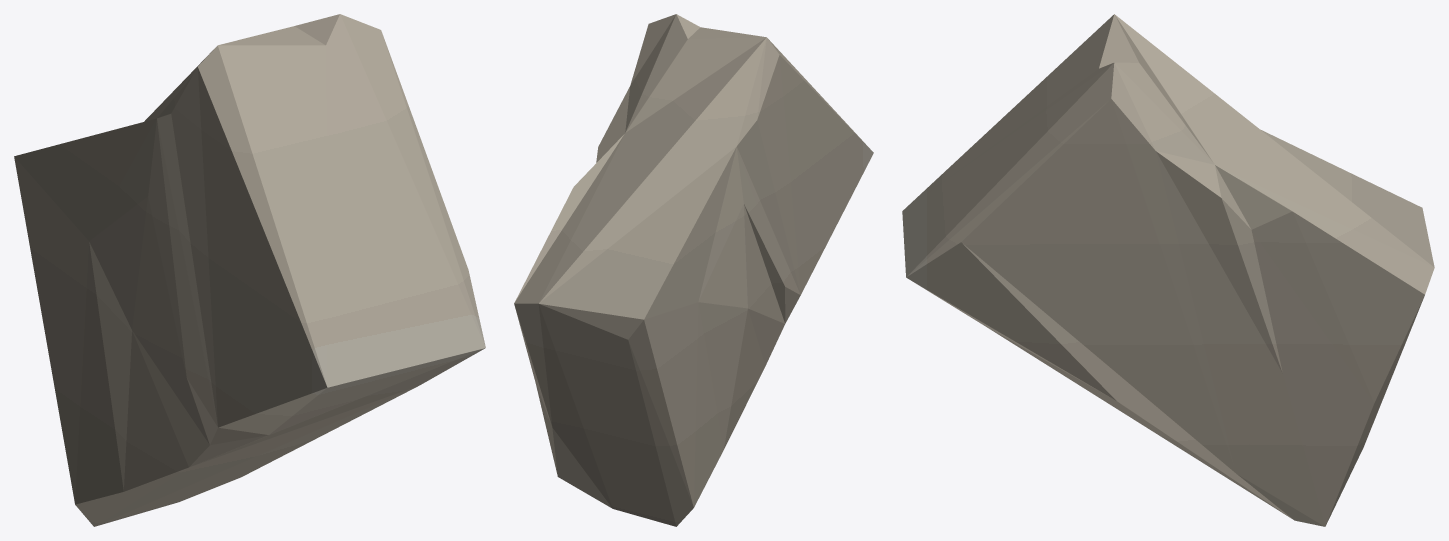
The model's file is YN_RockPlate12.fbx.
3 views of the same model, side by side, from view 1: azimuth 30°, elevation 25°; view 2: azimuth 150°, elevation 25°; view 3: azimuth 270°, elevation 25° (orthographic). The views are drawn at different scales.
Visible parts, largest first — view 1: RockPlate12; view 2: RockPlate12; view 3: RockPlate12.
Part boxes in pixels (bbox=[...]): RockPlate12: bbox=[14, 14, 485, 526]; RockPlate12: bbox=[514, 14, 873, 526]; RockPlate12: bbox=[902, 14, 1434, 526].
Bounding box in the file's own units: 0.4725 × 1.34 × 1.35.
